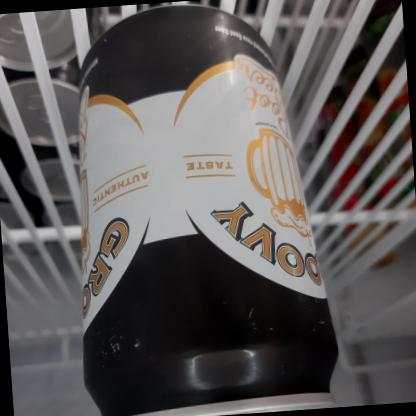alumunium_can: (28, 0, 354, 416)
